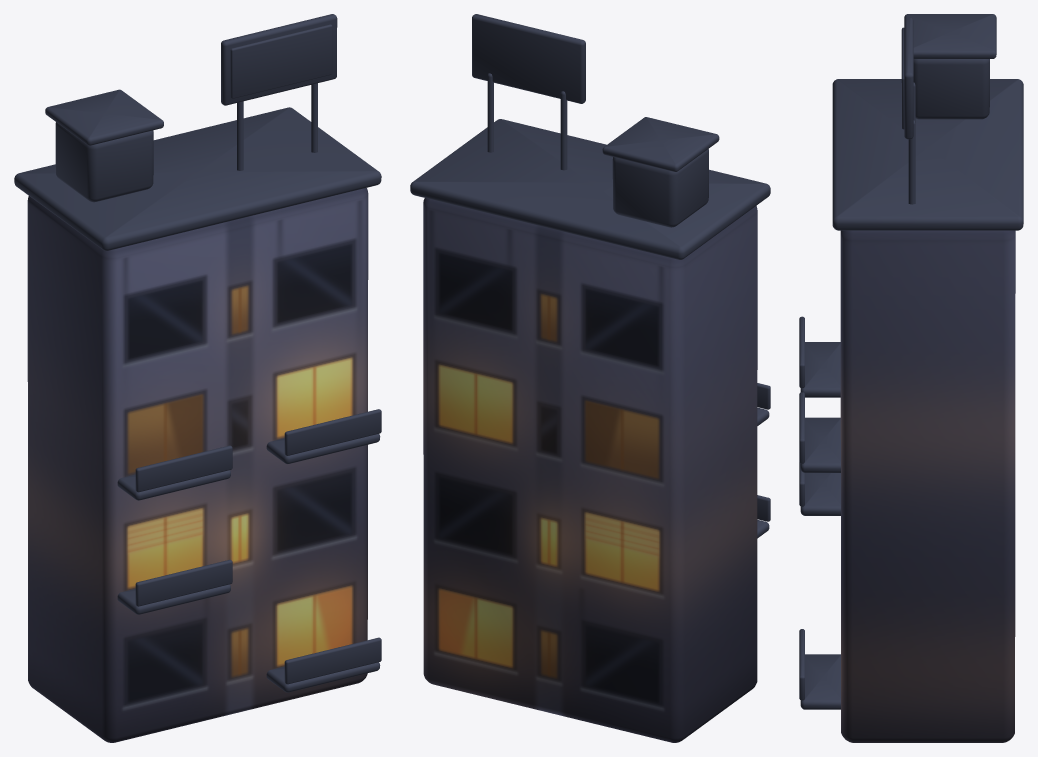
Rendered from zack_flats.glb.
The picture shows the model from 3 angles, left to right: view 1: azimuth 30°, elevation 25°; view 2: azimuth 150°, elevation 25°; view 3: azimuth 270°, elevation 25°; orthographic projection. The views are drawn at different scales.
Visible parts, largest first — view 1: block; view 2: block; view 3: block.
Part boxes in pixels (<box>): block: <box>14,14,381,742</box>; block: <box>410,14,770,742</box>; block: <box>799,14,1023,742</box>.
Size of the model in its own units: 2.1 by 4.65 by 1.41.
Materials: 1 (1 with a texture image).
